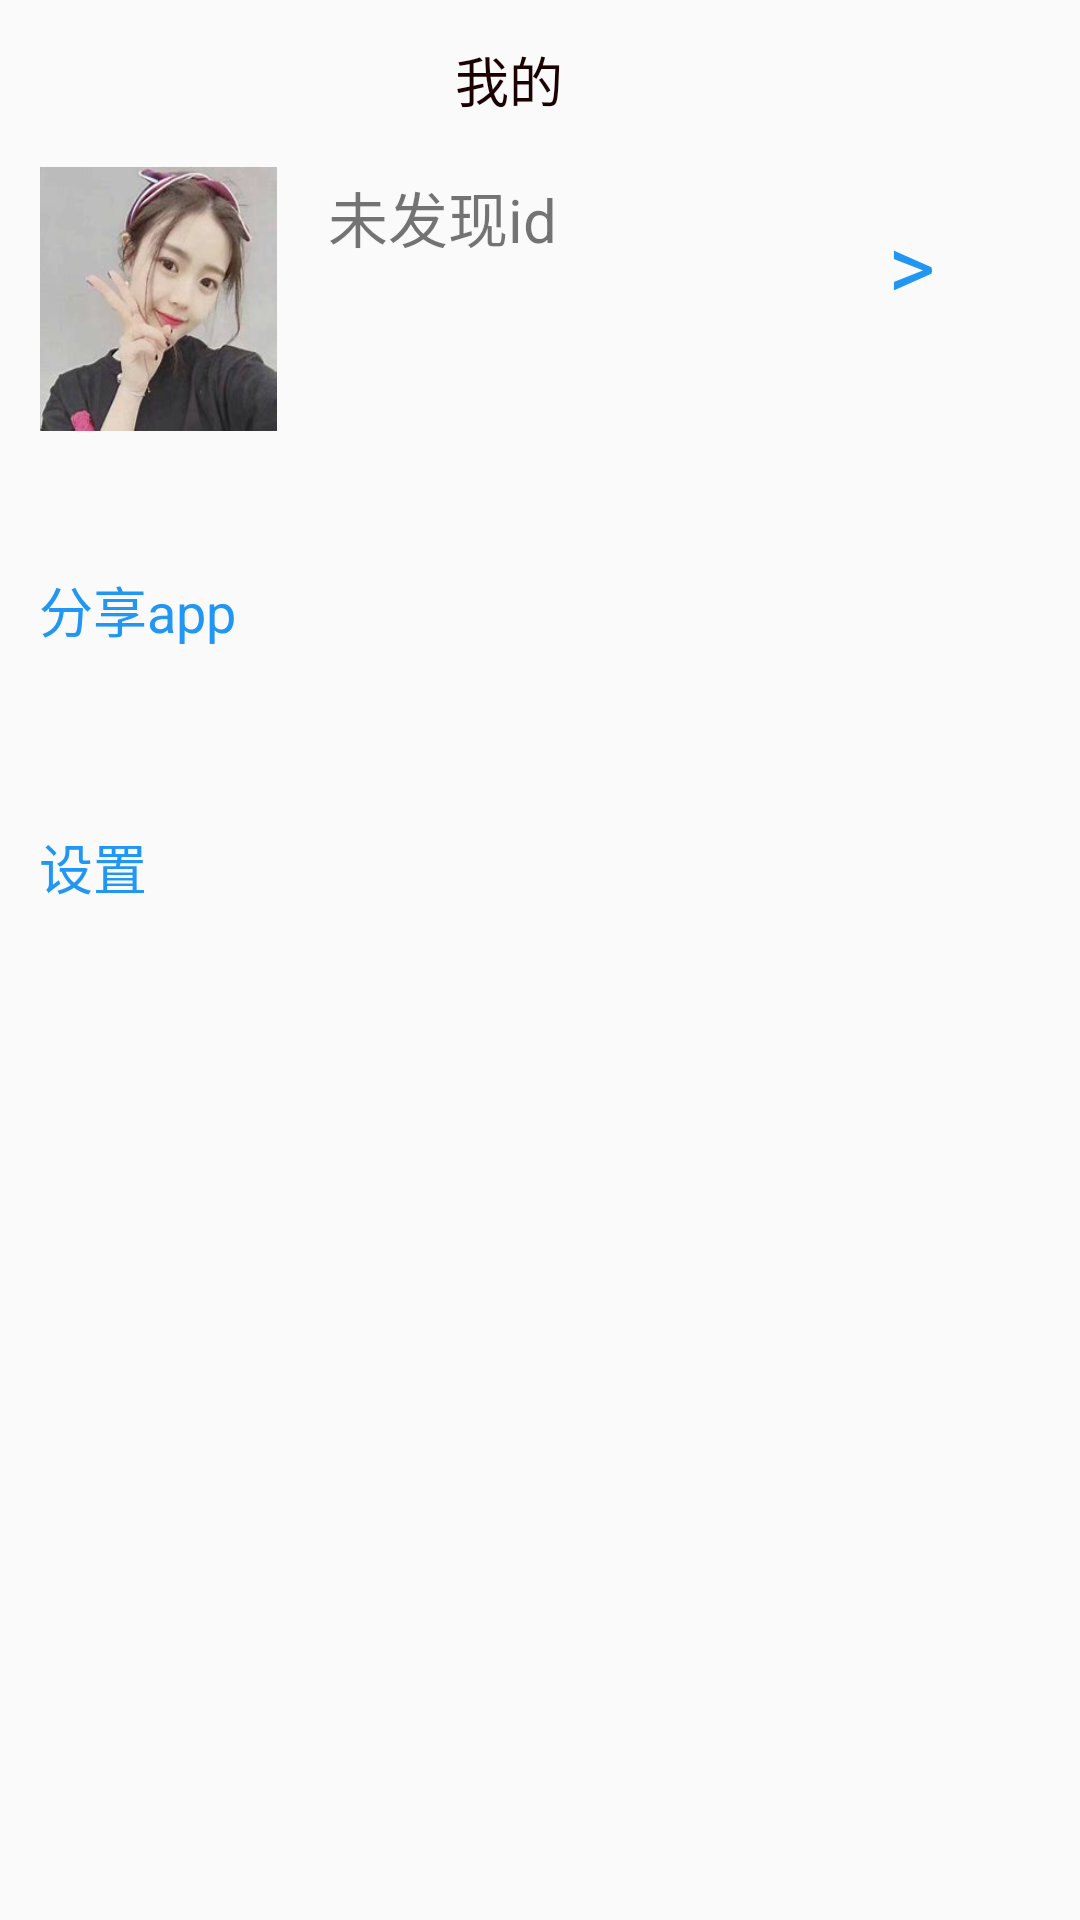

Screen size 1080 × 1920. Icon name, then its box in pixels as detection(x1, y1, x2, y2):
photo: detection(40, 167, 277, 431)
